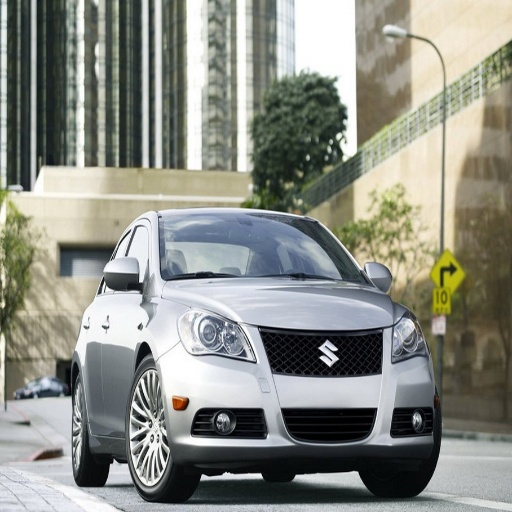front_bumper: (160, 323, 434, 466)
front_left_light: (390, 316, 426, 362)
front_right_door: (101, 216, 155, 413)
front_right_light: (178, 307, 256, 361)
hood: (176, 281, 401, 330)
